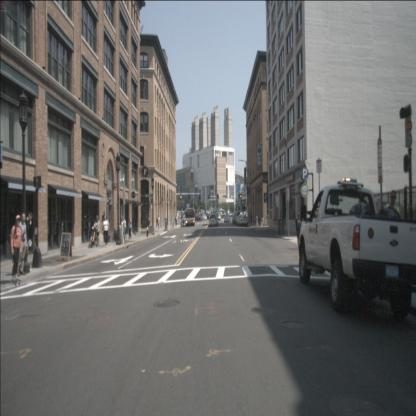human-pedestrian-adult: (10, 213, 23, 280), (16, 212, 28, 277), (22, 210, 34, 268), (294, 212, 302, 249), (102, 214, 110, 248), (92, 214, 100, 247), (102, 210, 107, 241), (121, 215, 126, 244), (128, 215, 132, 241), (146, 216, 150, 234), (156, 213, 160, 230), (255, 213, 259, 228), (174, 215, 177, 225)
vehicle-bus-rigid: (185, 208, 195, 226)
vehicle-car: (209, 213, 218, 227), (232, 212, 241, 224), (238, 216, 248, 226), (237, 214, 245, 226), (224, 214, 232, 223), (195, 214, 202, 222), (235, 216, 241, 224), (216, 214, 221, 221), (202, 214, 207, 221), (182, 215, 186, 223)
vehicle-truck: (298, 184, 416, 318), (209, 200, 218, 222)
